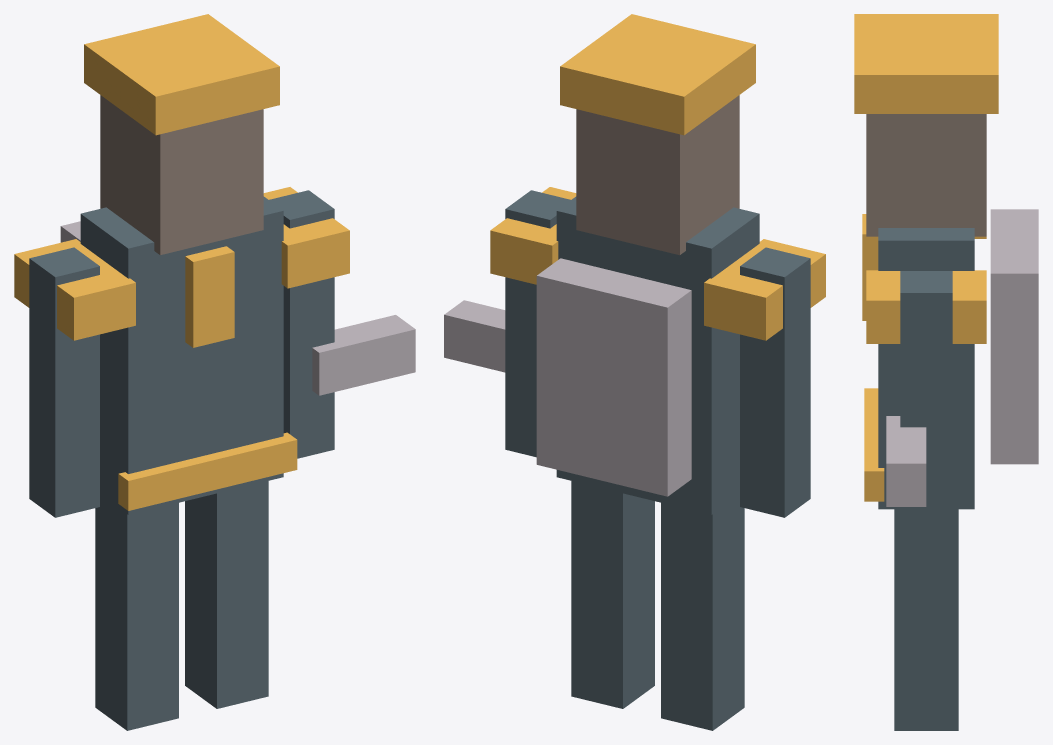
File: 09_keir_cinderholt_medic_from_containment.glb
3 renders of one model, left to right at view 1: azimuth 30°, elevation 25°; view 2: azimuth 150°, elevation 25°; view 3: azimuth 270°, elevation 25°, orthographic.
Parts seen in each view (by area): view 1: Keir Cinderholt, Medic from Containment; view 2: Keir Cinderholt, Medic from Containment; view 3: Keir Cinderholt, Medic from Containment.
Boxes of the visible parts, box(x1,y1,x2,y2) form: Keir Cinderholt, Medic from Containment: box(14, 14, 415, 730); Keir Cinderholt, Medic from Containment: box(444, 14, 825, 730); Keir Cinderholt, Medic from Containment: box(854, 14, 1038, 730).
Size of the model in its own units: 0.9785 by 1.71 by 0.4391.
